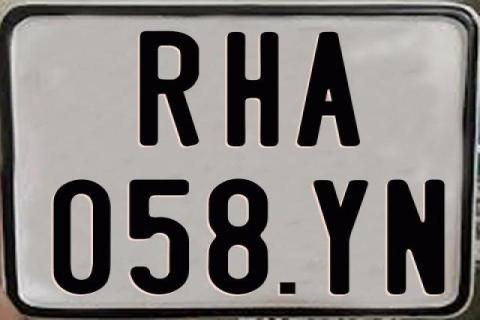0: (207, 177, 270, 296), (126, 177, 190, 293), (50, 180, 109, 300)
A: (296, 30, 366, 148)
H: (224, 29, 282, 149)
N: (387, 177, 448, 293)
R: (138, 29, 197, 150)
Y: (312, 179, 372, 295)
